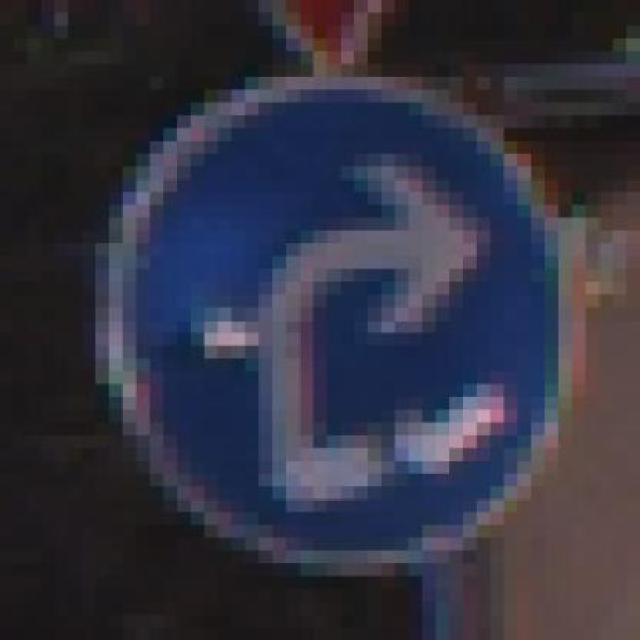Turn right ahead: (54, 77, 586, 563)
